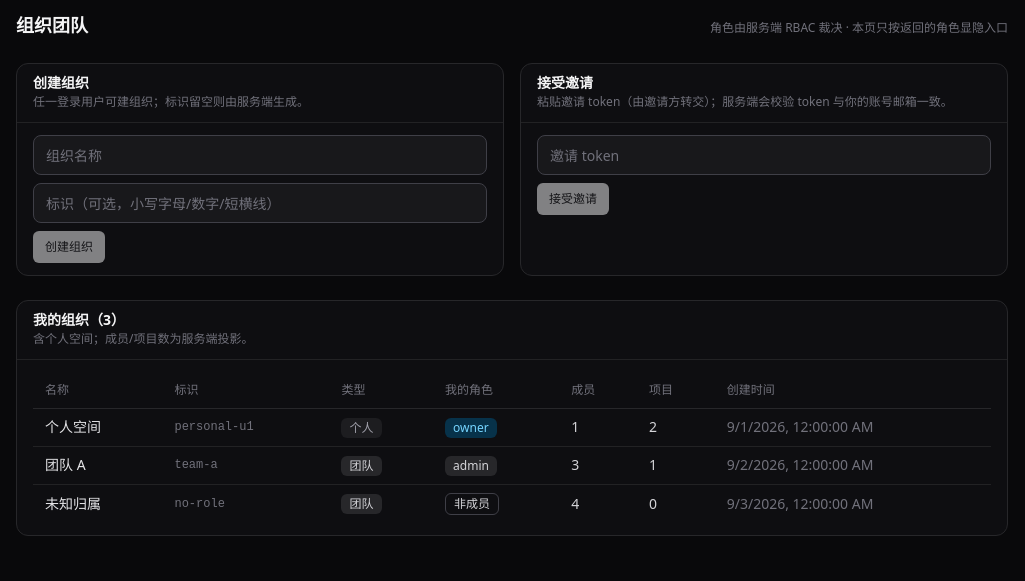
it: /organizations 接受邀请（token 走路径参数） › POST /invitations/:token/accept（token 整体 URL 编码）→ 提示加入结果 + 失效重取
Expected: the link "团队 A" is shown, [45, 455, 86, 474]
Step 1. Type "a1b2c3d4" into the field labelled "邀请 token" → (764, 155), box [537, 135, 991, 175]
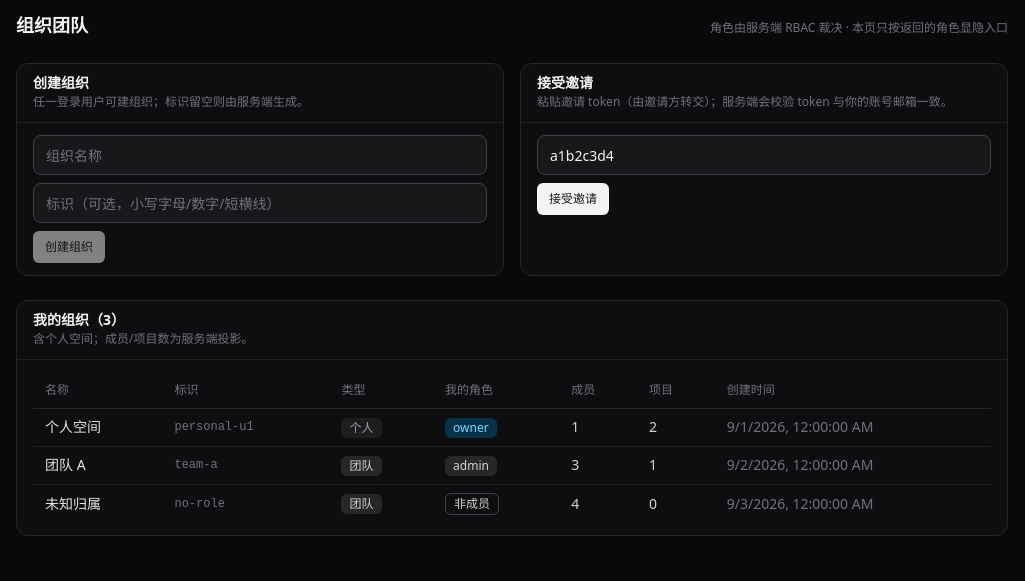
Step 2. Click the button "接受邀请" → click(573, 199), box [537, 183, 609, 215]
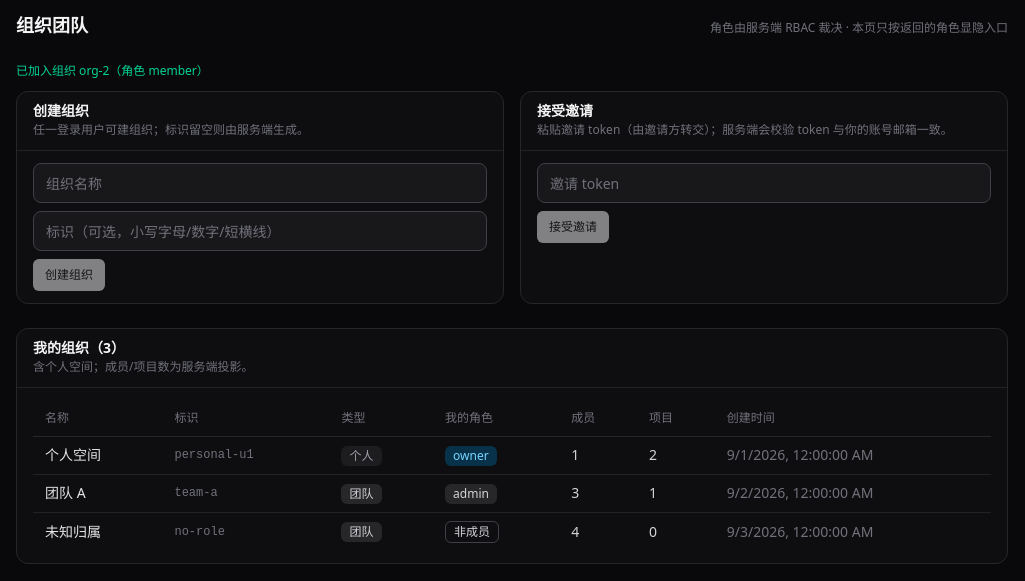
Expected: the message reads "已加入组织 org-2（角色 member）", [16, 62, 209, 79]
